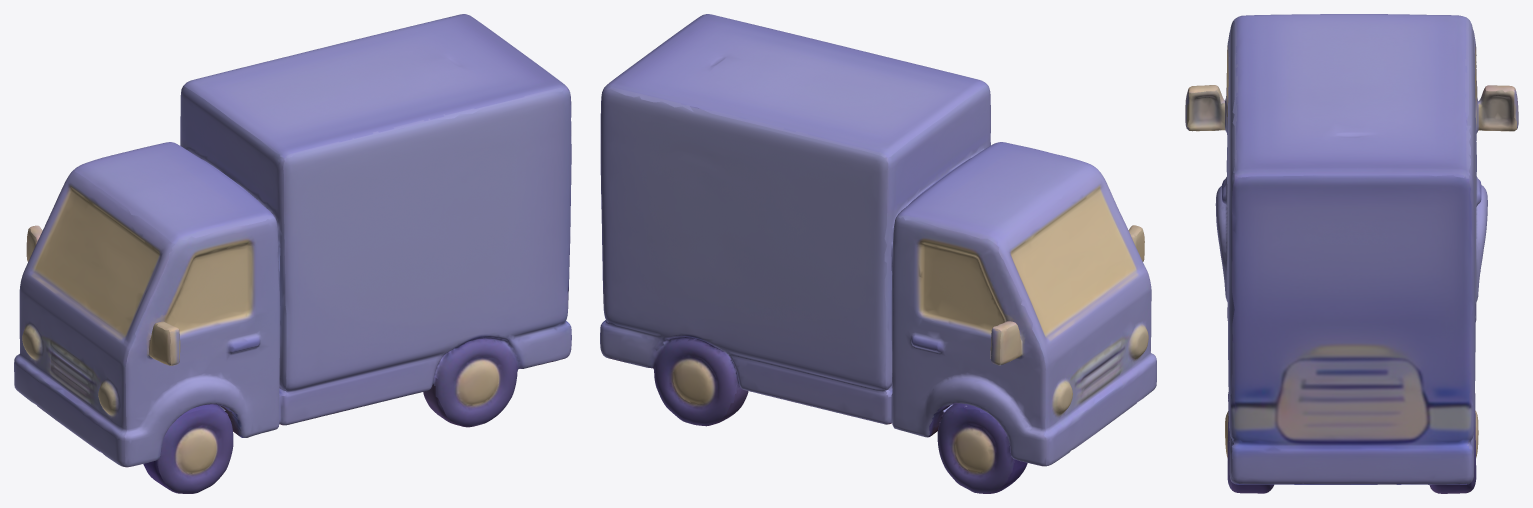
File: truck1.glb
3 views of the same model, side by side, from view 1: azimuth 30°, elevation 25°; view 2: azimuth 150°, elevation 25°; view 3: azimuth 270°, elevation 25° (orthographic). The views are drawn at different scales.
Parts seen in each view (by area): view 1: tmp8x0g3_wt.ply; view 2: tmp8x0g3_wt.ply; view 3: tmp8x0g3_wt.ply.
Part boxes in pixels (box(x1,y1,x2,y2)): tmp8x0g3_wt.ply: box(14, 14, 571, 493); tmp8x0g3_wt.ply: box(600, 14, 1156, 493); tmp8x0g3_wt.ply: box(1185, 14, 1518, 493).
Size of the model in its own units: 1.99 by 1.34 by 1.1.
Materials: 1 (1 with a texture image).
